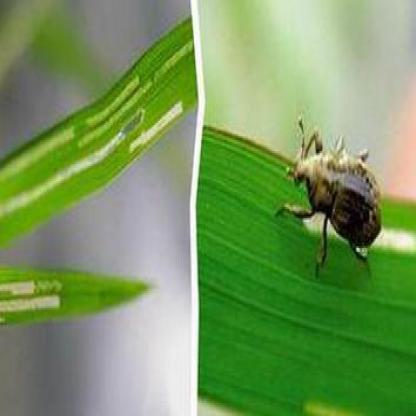rice-bug: (287, 130, 385, 262)
